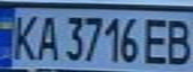1: (103, 14, 124, 63)
3: (60, 12, 84, 62)
6: (118, 15, 145, 64)
7: (81, 12, 106, 62)
A: (33, 11, 60, 62)
B: (160, 15, 193, 66)
E: (139, 14, 175, 66)
K: (6, 10, 42, 62)
